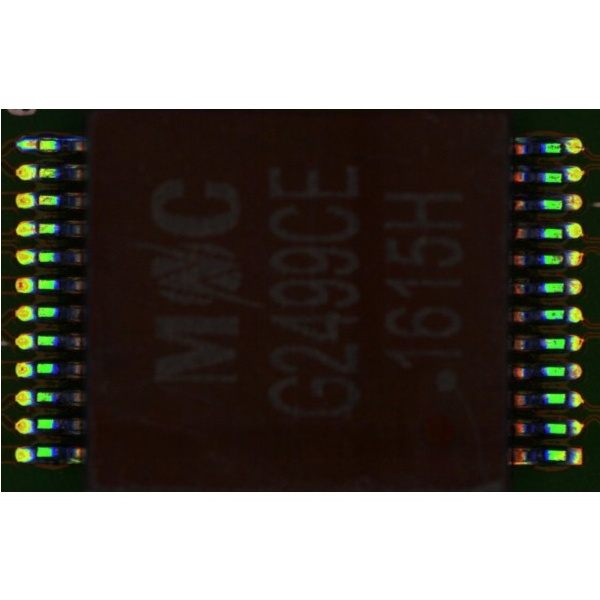Bad_podu: (24, 140, 49, 147)
